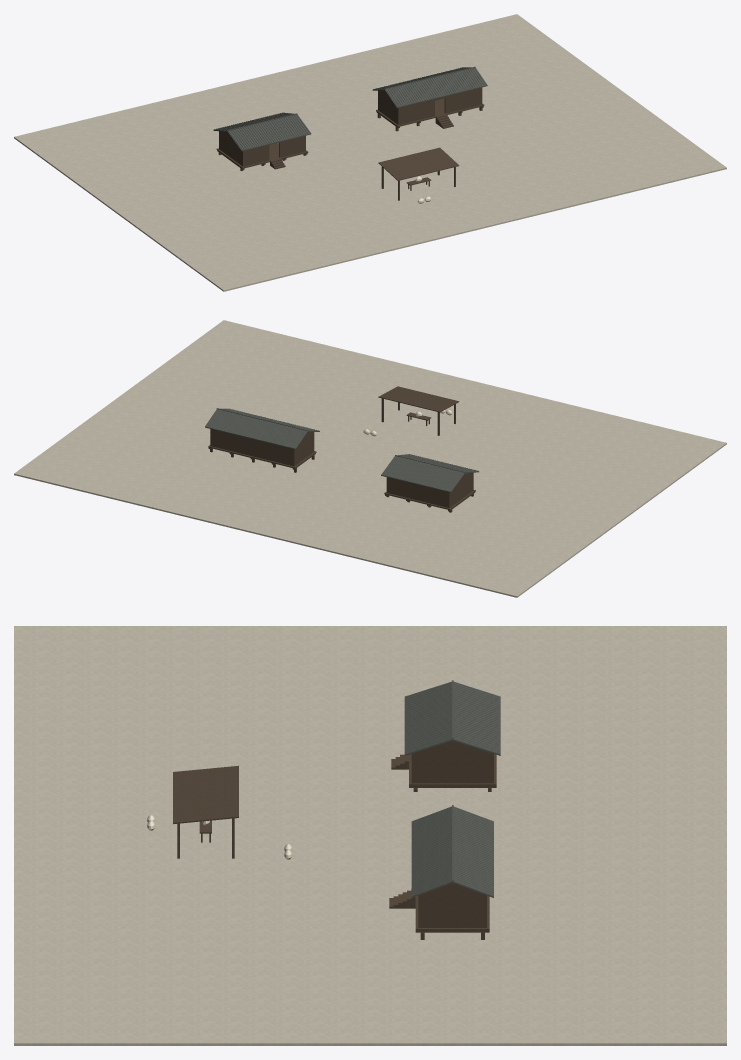
The model's file is granary-city-LOD0.glb.
3 views of the same model, one above another, from view 1: azimuth 30°, elevation 25°; view 2: azimuth 150°, elevation 25°; view 3: azimuth 270°, elevation 25° (orthographic). The views are drawn at different scales.
Visible parts, largest first — view 1: original_city_ground_preserved, granary-group-static_timber, granary-group-static_tile; view 2: original_city_ground_preserved, granary-group-static_timber, granary-group-static_tile; view 3: original_city_ground_preserved, granary-group-static_tile, granary-group-static_timber.
Boxes of the visible parts, left/top/right/bottom form: original_city_ground_preserved: left=14, top=14, right=726, bottom=291; granary-group-static_timber: left=216, top=87, right=484, bottom=200; granary-group-static_tile: left=213, top=66, right=487, bottom=151; original_city_ground_preserved: left=14, top=320, right=726, bottom=597; granary-group-static_timber: left=208, top=386, right=475, bottom=512; granary-group-static_tile: left=205, top=408, right=479, bottom=492; original_city_ground_preserved: left=14, top=626, right=726, bottom=1045; granary-group-static_tile: left=404, top=680, right=500, bottom=897; granary-group-static_timber: left=173, top=741, right=496, bottom=939.
Bounding box in the file's own units: 72 × 5.15 × 52.
Materials: 4 (3 with a texture image).
